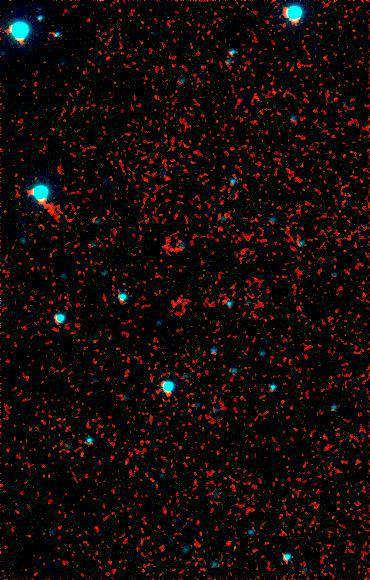star: (218, 535, 248, 565)
